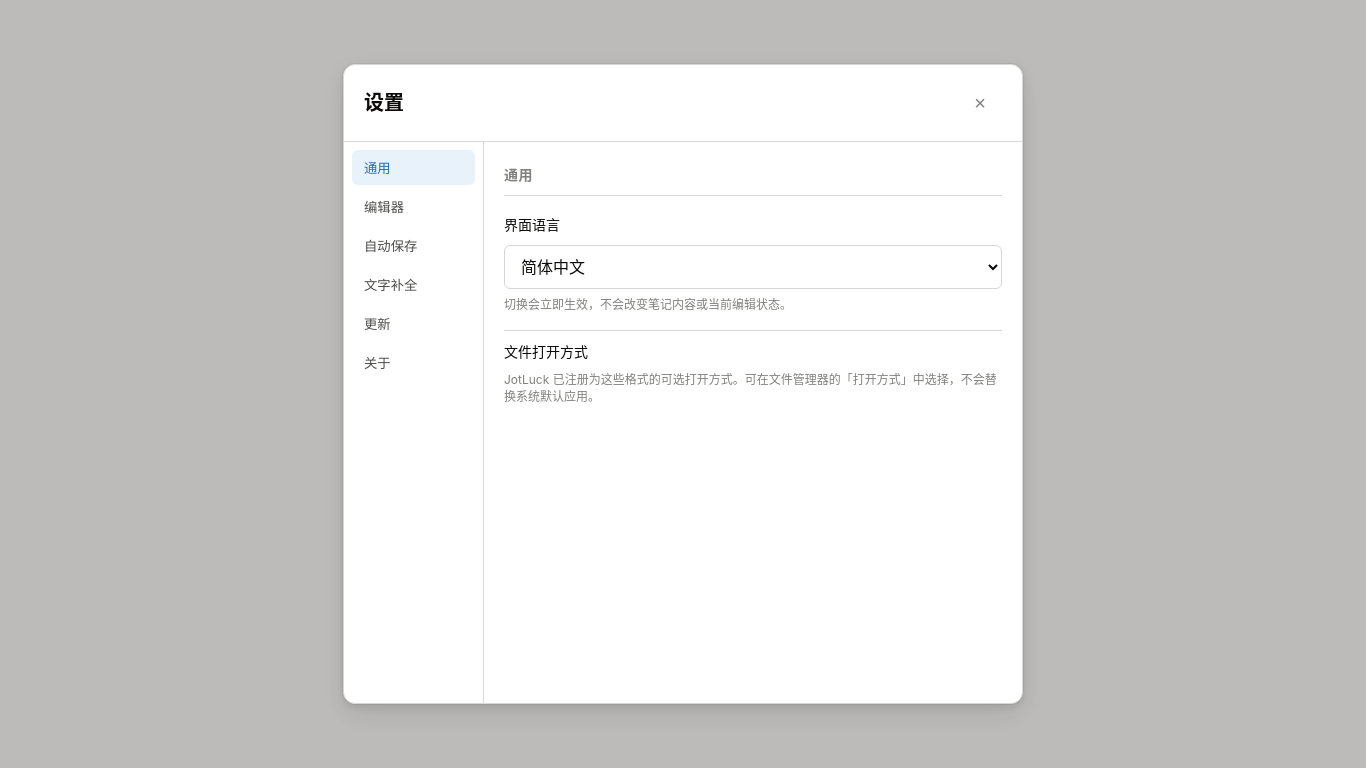
Test: SettingsDialog update check reuses useVersionCheck semantics › reports the check as failed when releases/latest answers 404
The image size is (1366, 768).
Click the button with class "nav-item" showing "更新": (414, 324) [352,306,475,341]
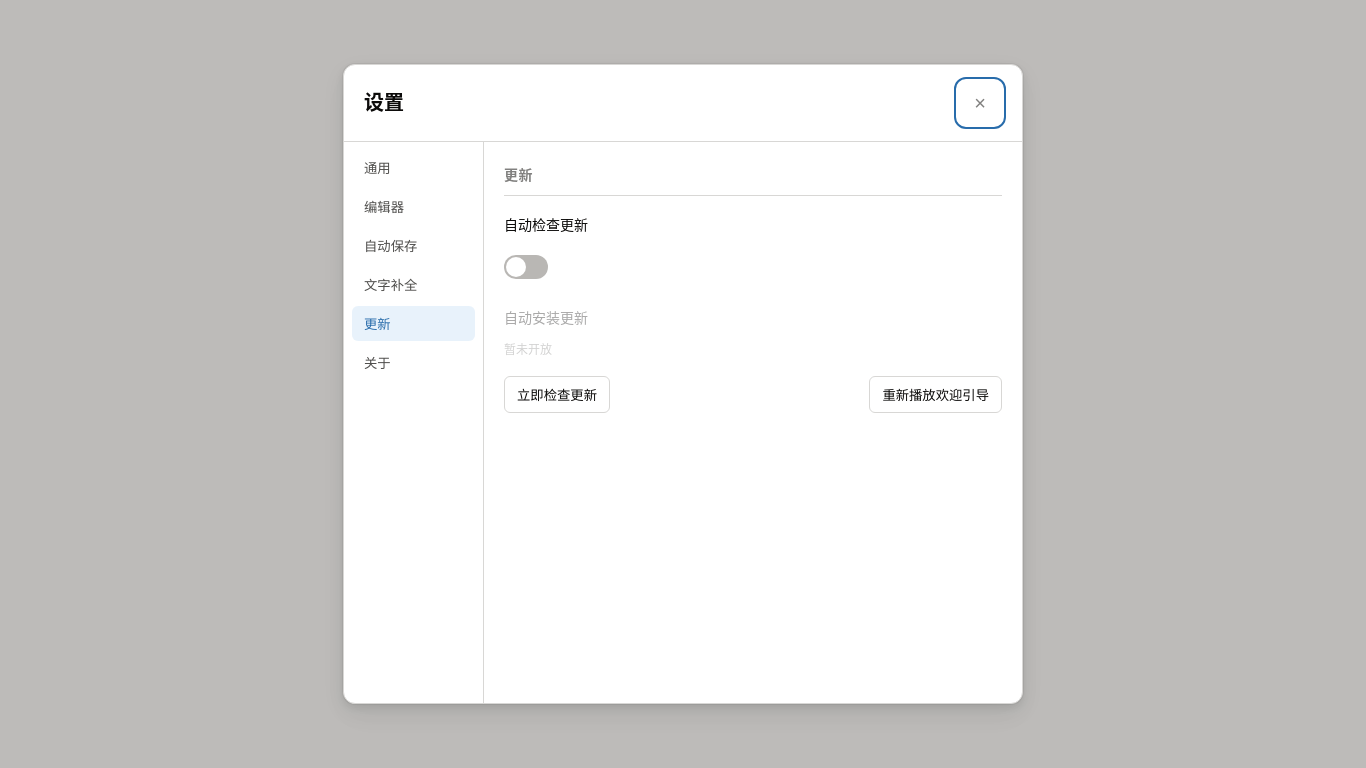
expect the button "立即检查更新" is shown: met
Click the button "立即检查更新": (557, 395) [504,376,610,413]
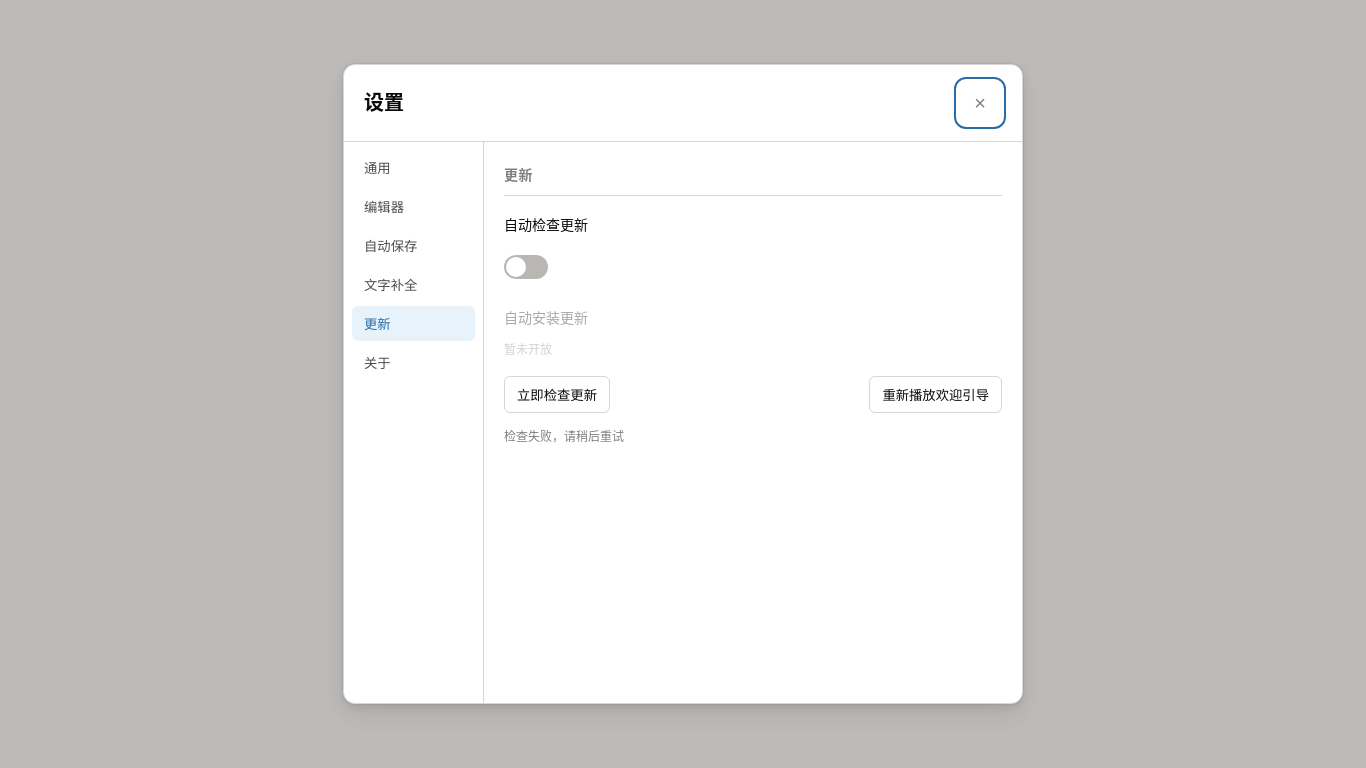
expect the text "检查失败，请稍后重试" is shown: met, box [504,429,624,444]
